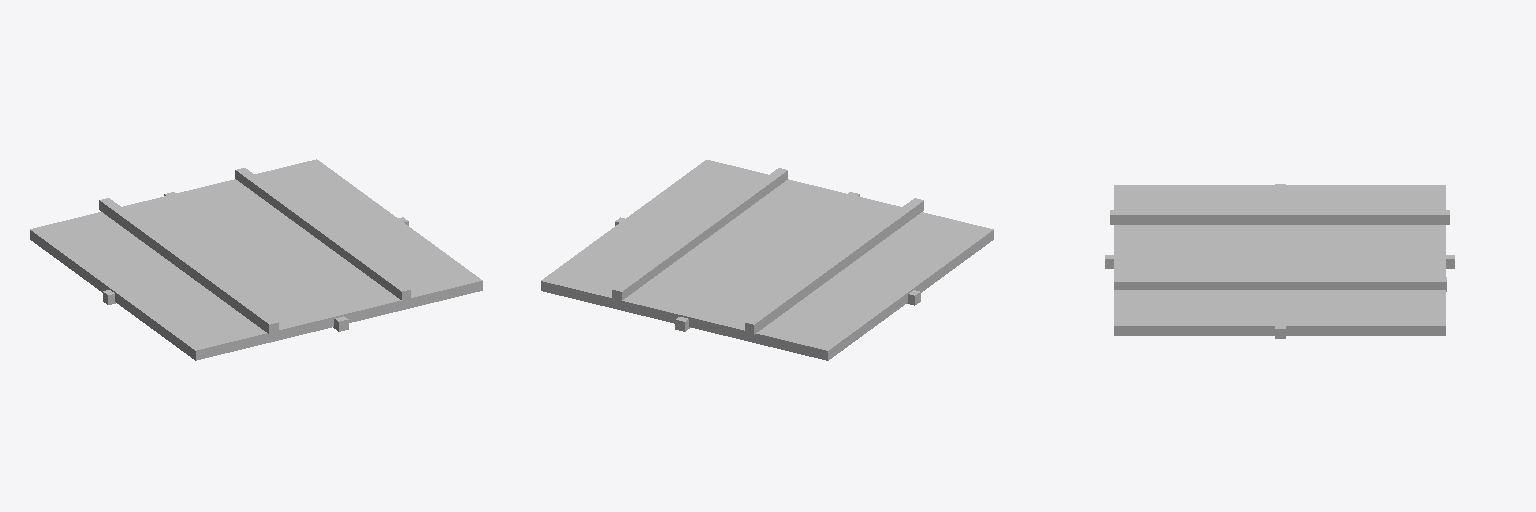
Rendered from roadStraight.obj.
3 views of the same model, side by side, from view 1: azimuth 30°, elevation 25°; view 2: azimuth 150°, elevation 25°; view 3: azimuth 270°, elevation 25° (orthographic).
Parts seen in each view (by area): view 1: pCube1, pCube7, pCube5; view 2: pCube1, pCube7, pCube5; view 3: pCube1, pCube7, pCube5.
Part boxes in pixels (x1,y1,x2,y2): pCube1: (30,159,482,360); pCube7: (99,198,278,334); pCube5: (235,168,410,301); pCube1: (541,160,993,360); pCube7: (745,198,923,334); pCube5: (612,168,787,301); pCube1: (1114,185,1445,335); pCube7: (1110,210,1449,224); pCube5: (1114,277,1446,291).
Size of the model in its own units: 31.34 by 2.18 by 31.57.